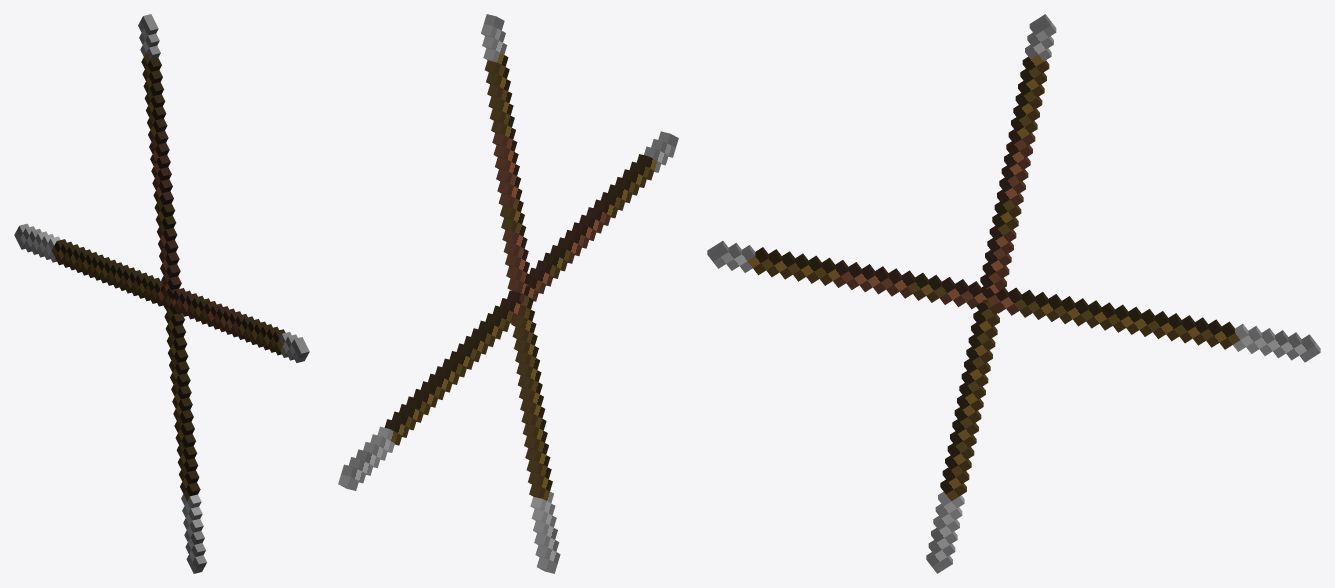
File: tin_pike.glb
3 renders of one model, left to right at view 1: azimuth 30°, elevation 25°; view 2: azimuth 150°, elevation 25°; view 3: azimuth 270°, elevation 25°, orthographic. The views are drawn at different scales.
Parts seen in each view (by area): view 1: off__Tool_L, main__Tool_R; view 2: off__Tool_L, main__Tool_R; view 3: main__Tool_R, off__Tool_L.
Boxes of the visible parts, x1,y1,x2,y2 form: off__Tool_L: (138, 14, 206, 573); main__Tool_R: (14, 223, 309, 362); off__Tool_L: (481, 14, 560, 573); main__Tool_R: (338, 131, 678, 490); main__Tool_R: (707, 241, 1320, 362); off__Tool_L: (926, 14, 1056, 573).
Size of the model in its own units: 0.0625 by 3.75 by 3.75.
1 material, 1 textured.
